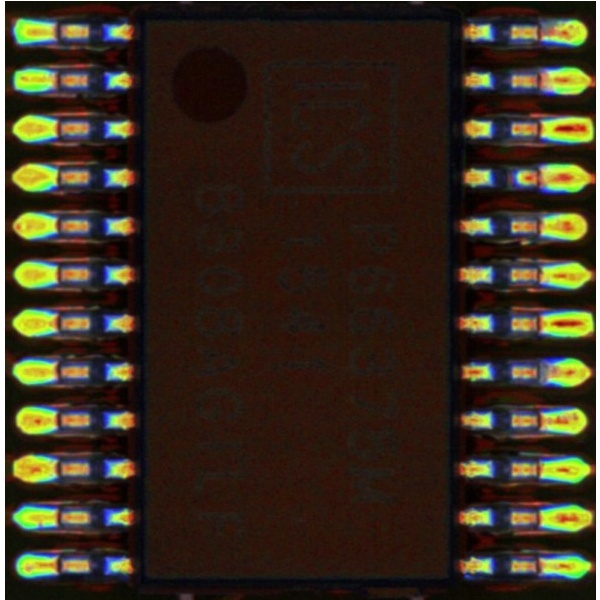Bad_podu: (520, 170, 556, 183), (40, 71, 71, 85), (39, 316, 69, 330), (43, 412, 71, 426), (527, 24, 556, 37), (39, 462, 70, 474), (525, 559, 555, 571), (43, 364, 70, 377), (530, 414, 556, 426), (43, 559, 71, 570), (41, 25, 69, 36), (528, 219, 553, 231), (45, 511, 70, 522)
